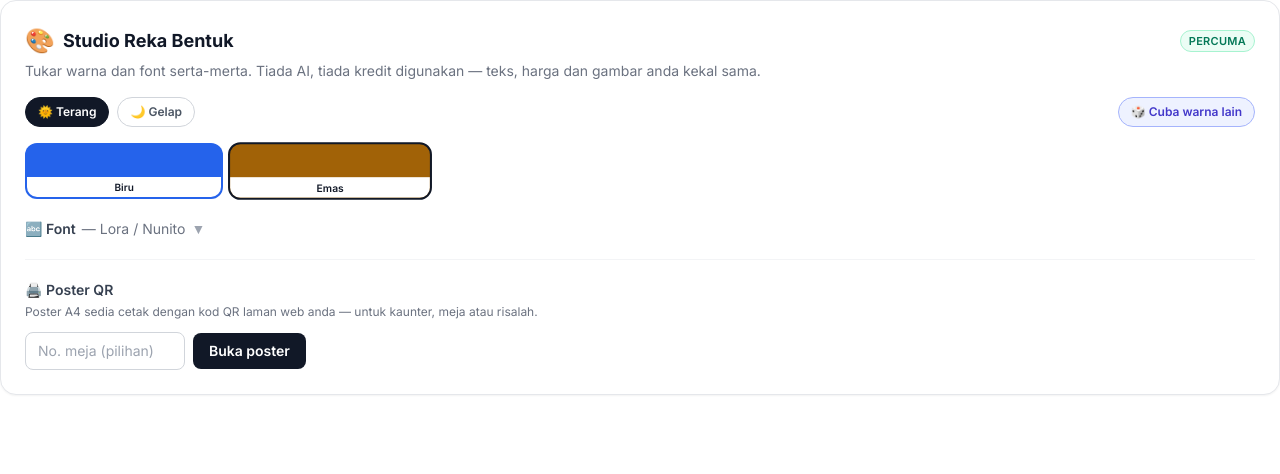
Test: DesignStudioPanel › surfaces a backend failure instead of pretending it worked
The width and height of the screenshot is (1280, 474).
Click the button with test id "palette-blue" at (124,171), box [25,143,223,199]
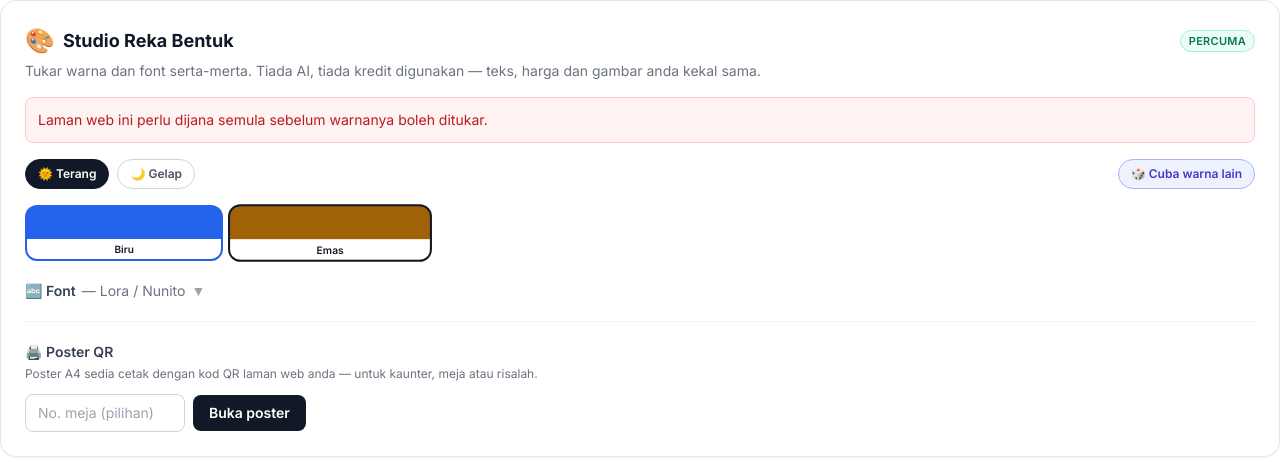
Result: the text "perlu dijana semula" is shown at [38,111,488,128]
